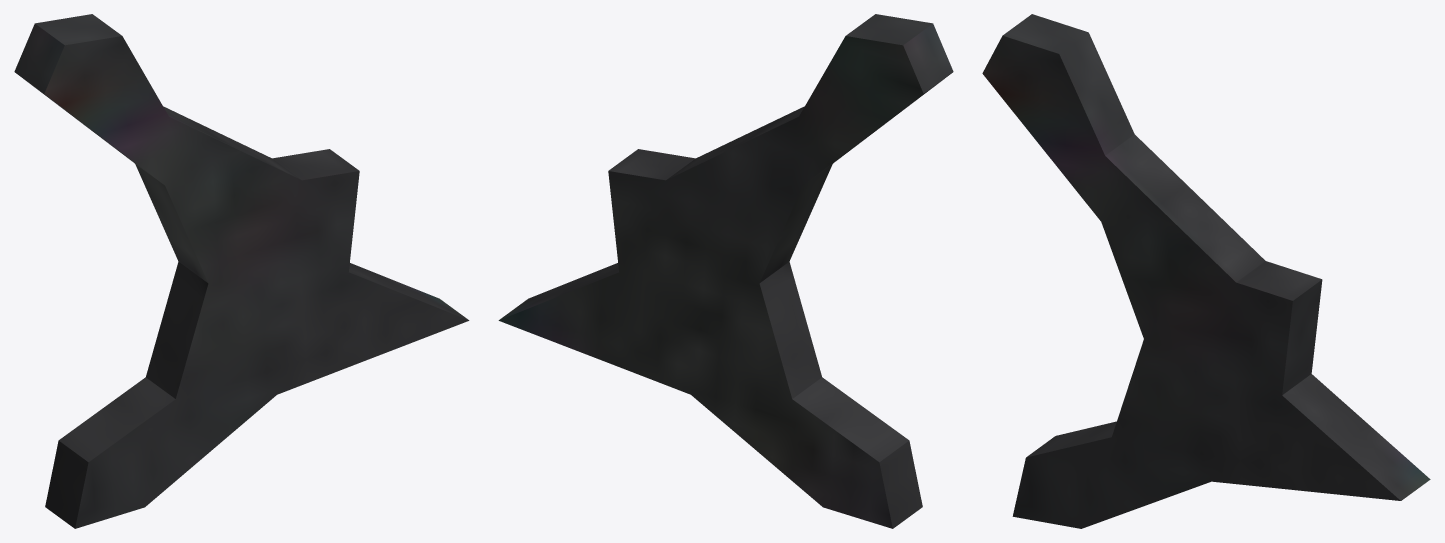
File: Bengal_02.glb
3 renders of one model, left to right at view 1: azimuth 30°, elevation 25°; view 2: azimuth 150°, elevation 25°; view 3: azimuth 330°, elevation 25°, orthographic.
Visible parts, largest first — view 1: Bengal_02; view 2: Bengal_02; view 3: Bengal_02.
Boxes of the visible parts, left/top/right/bottom form: Bengal_02: left=14, top=14, right=469, bottom=528; Bengal_02: left=498, top=14, right=953, bottom=528; Bengal_02: left=982, top=14, right=1430, bottom=528.
Bounding box in the file's own units: 0.0465 × 0.0508 × 0.00568.
Materials: 1 (1 with a texture image).
